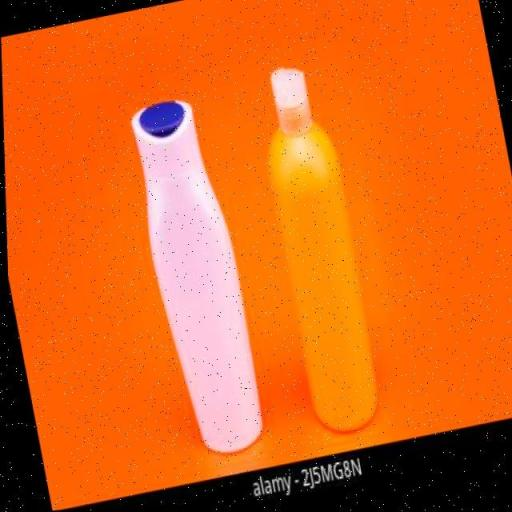plastic: (242, 57, 393, 450), (118, 89, 272, 468)
